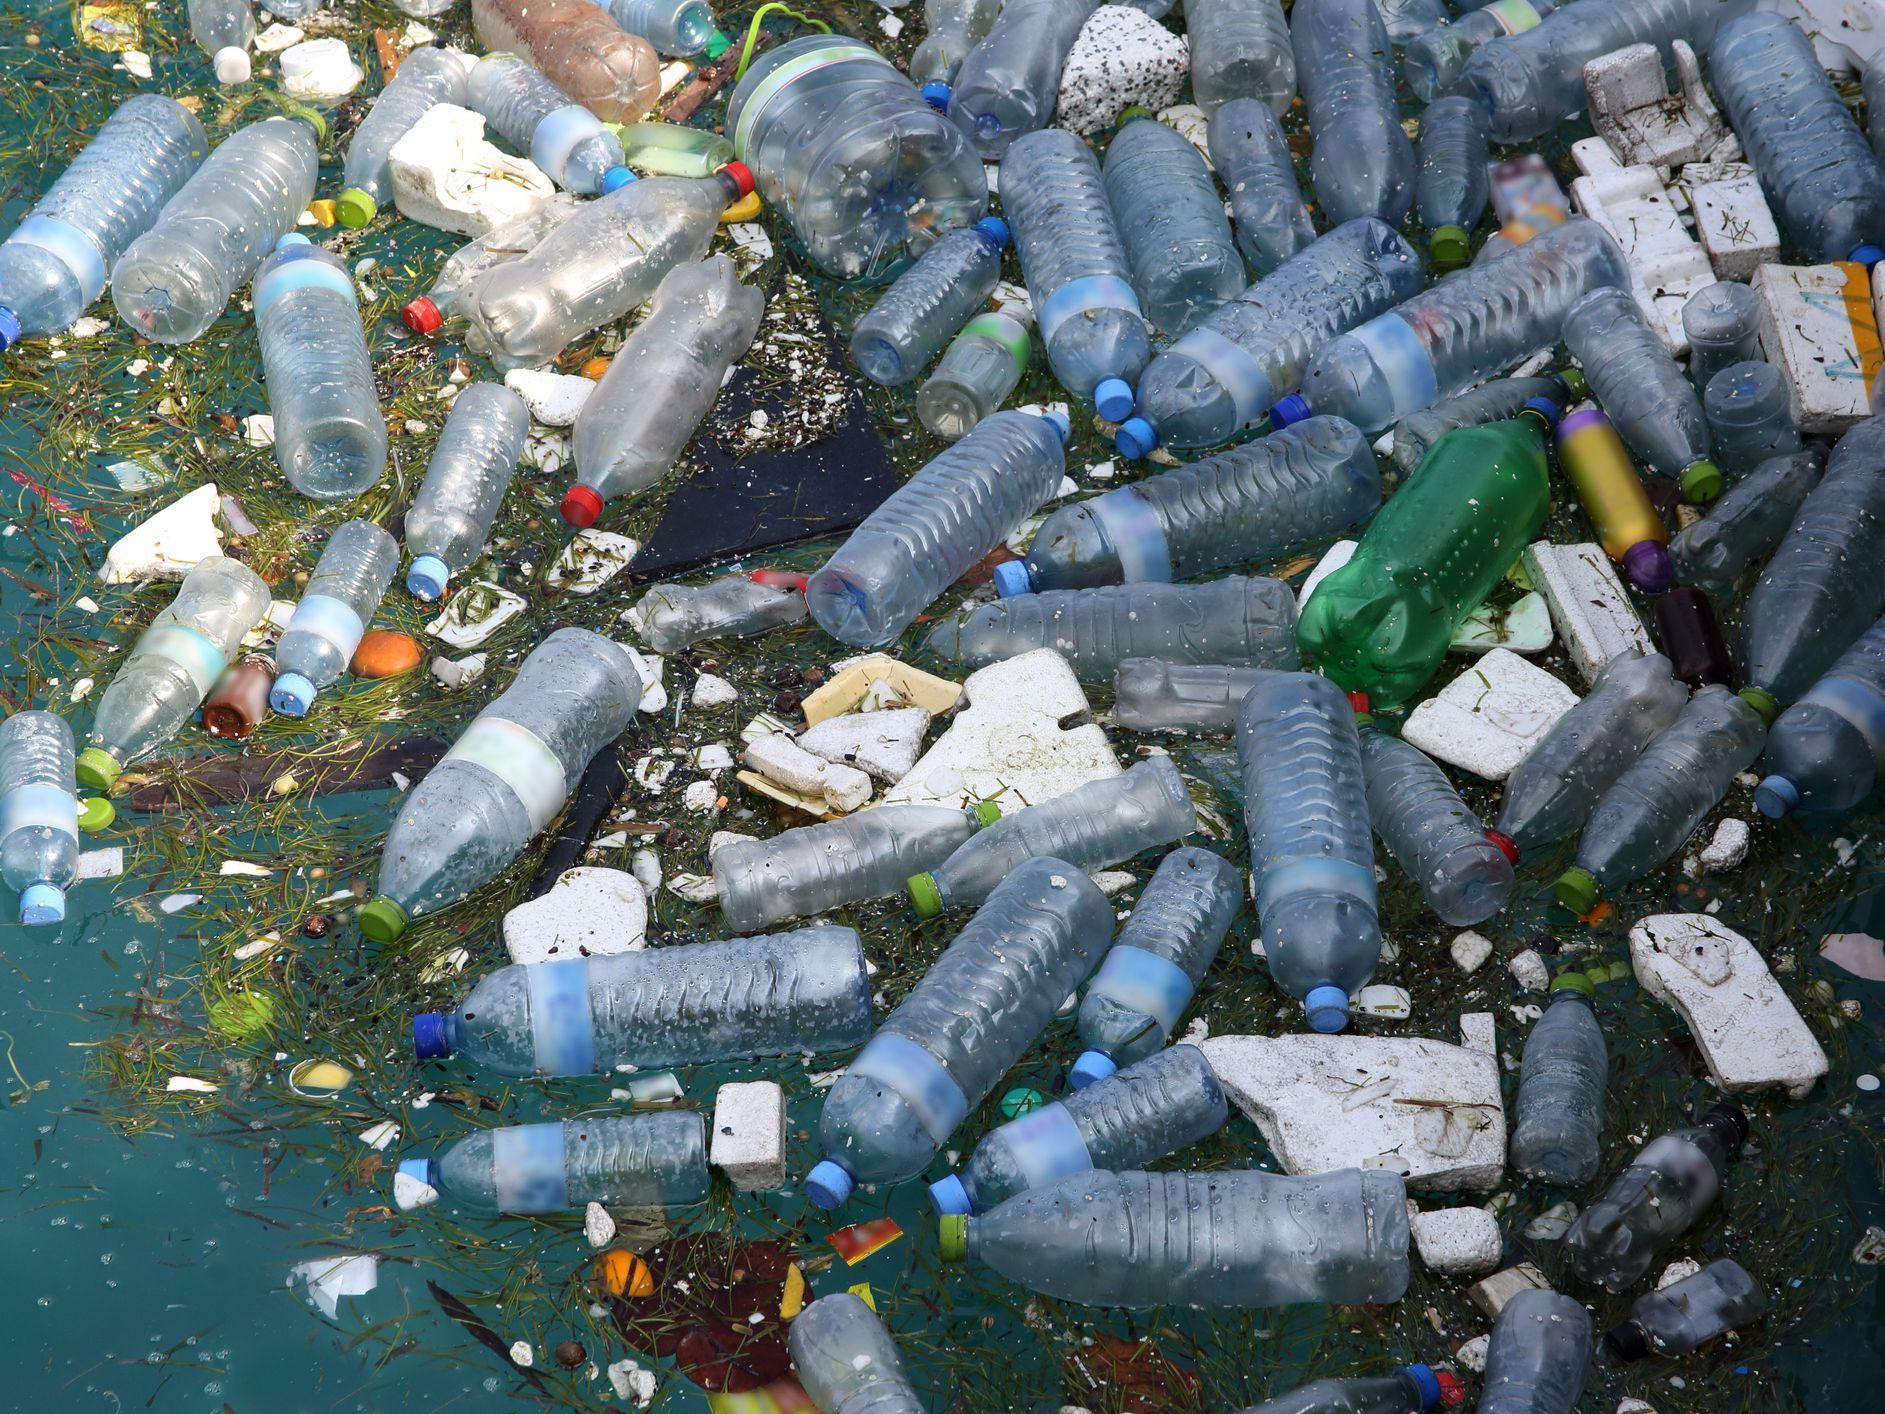bottle: (958, 400, 1325, 619), (85, 88, 307, 358), (1684, 0, 1885, 278), (936, 1028, 1200, 1237), (1117, 0, 1402, 189), (1561, 679, 1751, 906), (810, 968, 1119, 1098), (1546, 3, 1736, 211), (1075, 89, 1209, 352), (261, 514, 401, 746), (253, 0, 391, 230), (37, 364, 152, 630), (31, 346, 138, 628), (1754, 618, 1885, 844), (1542, 404, 1674, 616), (902, 0, 1053, 177), (1365, 729, 1503, 922), (98, 58, 267, 206), (0, 750, 279, 839), (1475, 971, 1576, 1208), (783, 1288, 934, 1414), (854, 0, 1007, 122), (0, 13, 83, 232), (1169, 0, 1297, 123), (1285, 521, 1576, 572), (1089, 1185, 1196, 1316), (1426, 62, 1494, 245), (1243, 823, 1370, 906), (0, 691, 39, 951), (149, 0, 235, 89), (917, 4, 991, 100), (703, 141, 994, 165), (172, 0, 276, 49), (622, 0, 732, 45), (557, 101, 765, 123), (1009, 269, 1141, 282), (787, 533, 1072, 539), (0, 220, 204, 224), (171, 1074, 171, 1203)
